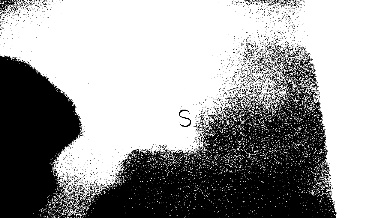S: (173, 105, 195, 130)
